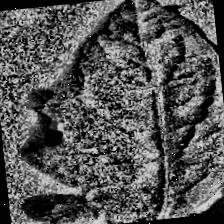disease: (5, 0, 224, 224)
